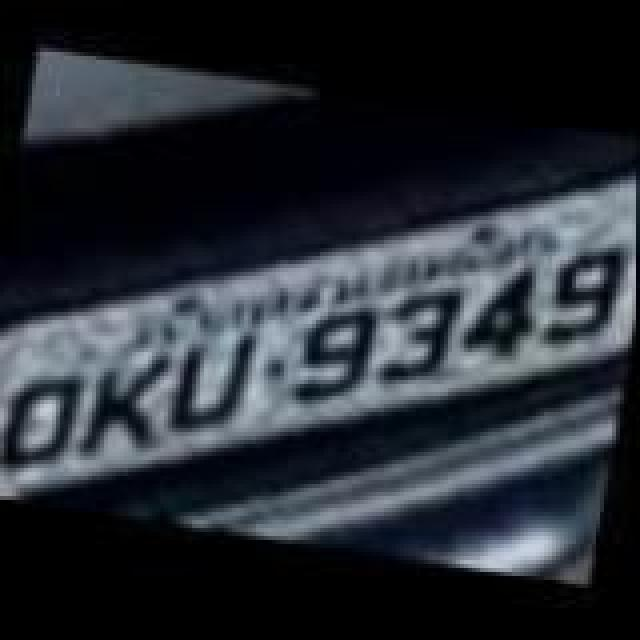3: (378, 280, 462, 392)
4: (464, 262, 544, 366)
9: (288, 300, 384, 416), (546, 238, 630, 354)
K: (76, 346, 168, 470)
O: (0, 370, 88, 486)
U: (172, 322, 264, 438)
